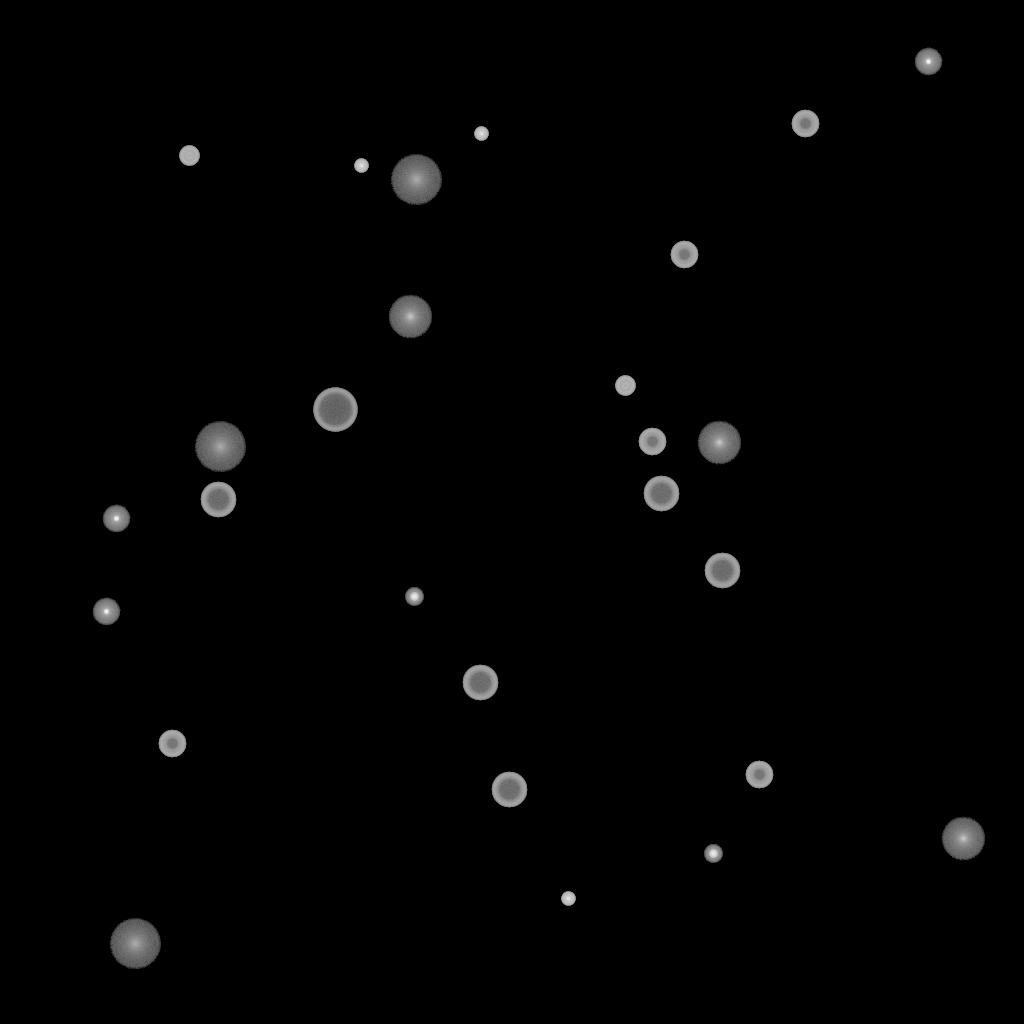depth:-10: (92, 598, 120, 626), (914, 48, 942, 76), (102, 505, 130, 533)
depth:-20: (405, 588, 423, 606), (704, 845, 722, 863)
depth:-30: (561, 892, 575, 906), (354, 159, 368, 173), (474, 127, 488, 141)
depth:-40: (615, 376, 635, 396), (179, 146, 199, 166)
depth:-50: (638, 428, 666, 456), (745, 761, 773, 789), (791, 110, 819, 138), (670, 241, 698, 269), (158, 730, 186, 758)
depth:-60: (643, 476, 679, 512), (462, 665, 498, 701), (704, 553, 740, 589), (491, 772, 527, 808), (200, 482, 236, 518)
depth:-70: (313, 388, 357, 432)
depth:10: (941, 817, 985, 861), (697, 421, 741, 465), (388, 295, 432, 339)
depth:20: (390, 155, 442, 205), (109, 919, 161, 969), (194, 422, 246, 472)
